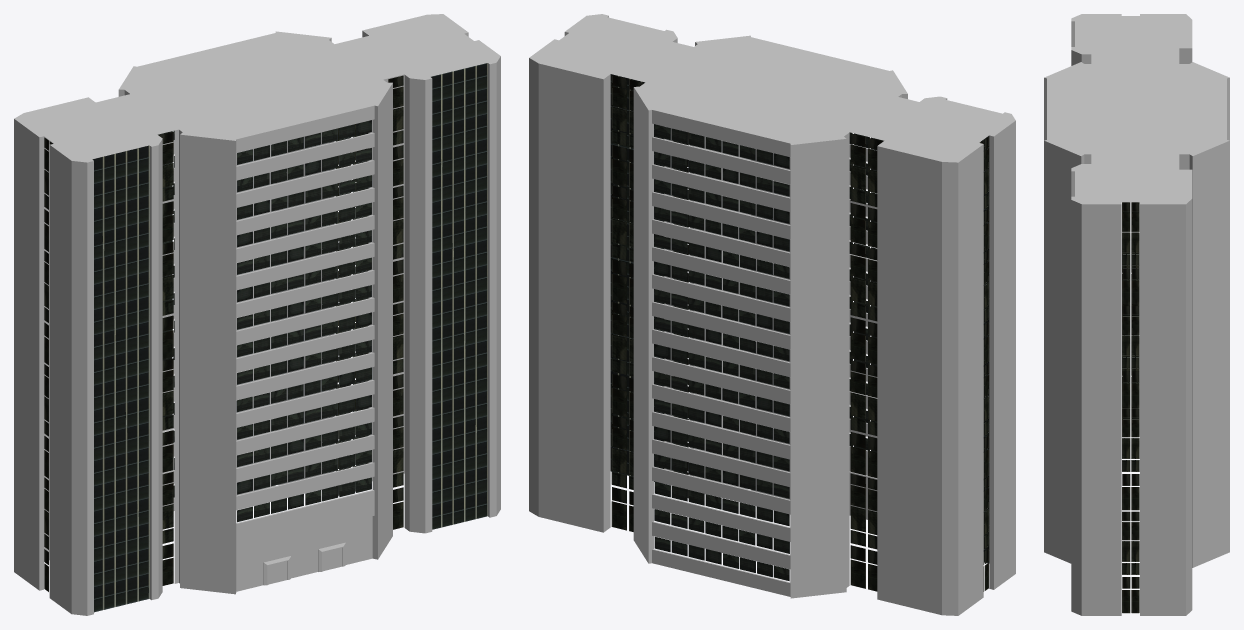
The picture shows the model from 3 angles, left to right: view 1: azimuth 30°, elevation 25°; view 2: azimuth 150°, elevation 25°; view 3: azimuth 270°, elevation 25°; orthographic projection. The views are drawn at different scales.
Visible parts, largest first — view 1: BC-075; view 2: BC-075; view 3: BC-075.
Boxes of the visible parts, x1,y1,x2,y2 form: BC-075: (14, 14, 500, 615); BC-075: (529, 14, 1015, 615); BC-075: (1044, 14, 1229, 615).
Size of what is drawn, in the model's own units: 57.92 by 58.46 by 23.91.
